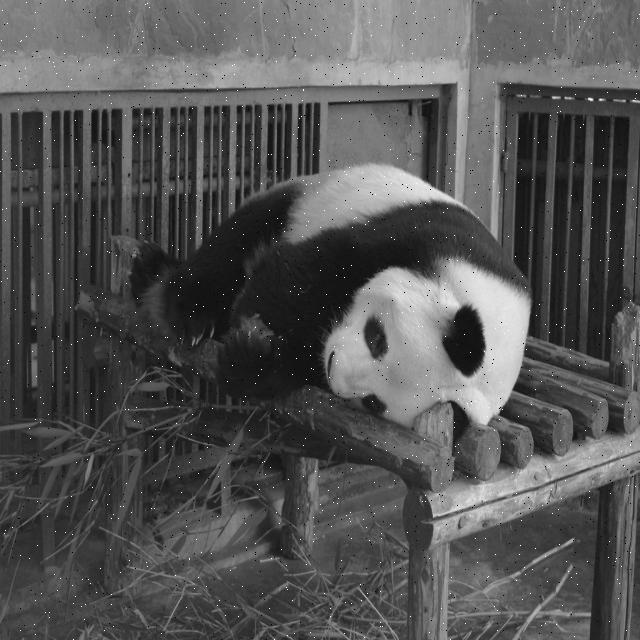panda: (131, 157, 533, 432)
